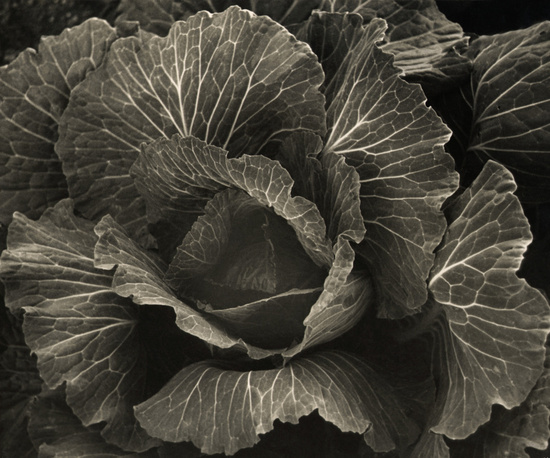cabbage: (0, 3, 548, 456)
